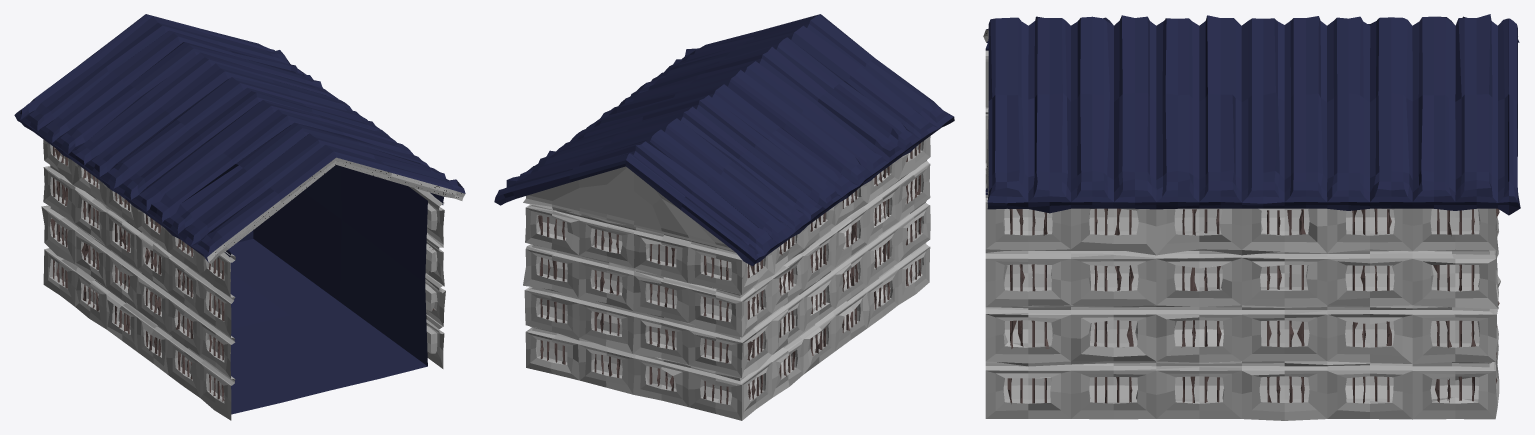
File: old_building_medium.fbx
3 views of the same model, side by side, from view 1: azimuth 30°, elevation 25°; view 2: azimuth 150°, elevation 25°; view 3: azimuth 270°, elevation 25° (orthographic). The views are drawn at different scales.
Visible parts, largest first — view 1: old_building_medium; view 2: old_building_medium; view 3: old_building_medium.
Boxes of the visible parts, x1,y1,x2,y2 form: old_building_medium: (14,14,465,420); old_building_medium: (494,14,954,420); old_building_medium: (983,14,1520,420).
Size of the model in its own units: 1862 by 1674 by 2416.
